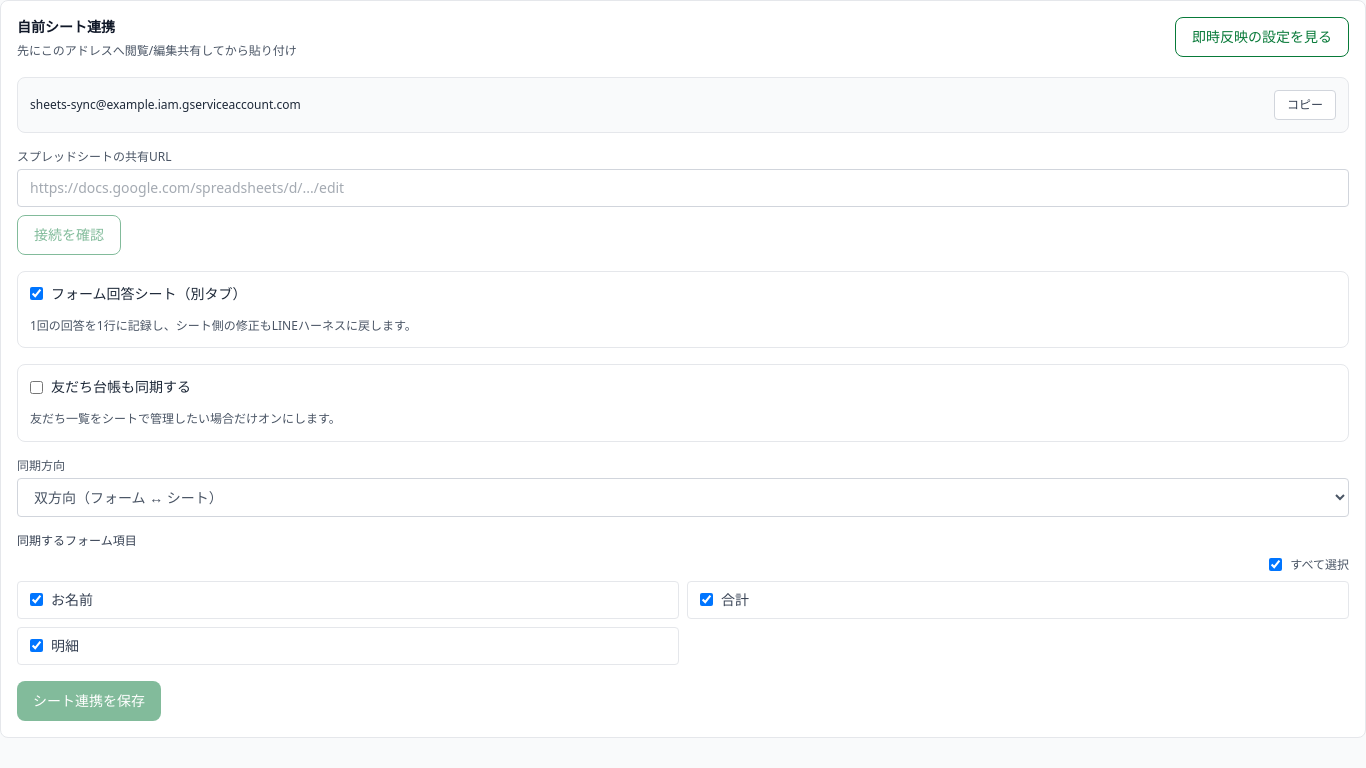
Test: InternalSheetsSetupPanel › turns a permission failure into daily Japanese without exposing the raw error
Type "https://docs.google.com/spreadsheets/d/spreadsheet_1234567890/edit" into the field labelled "スプレッドシートの共有URL". click: (683, 188)
box: [17, 168, 1349, 206]
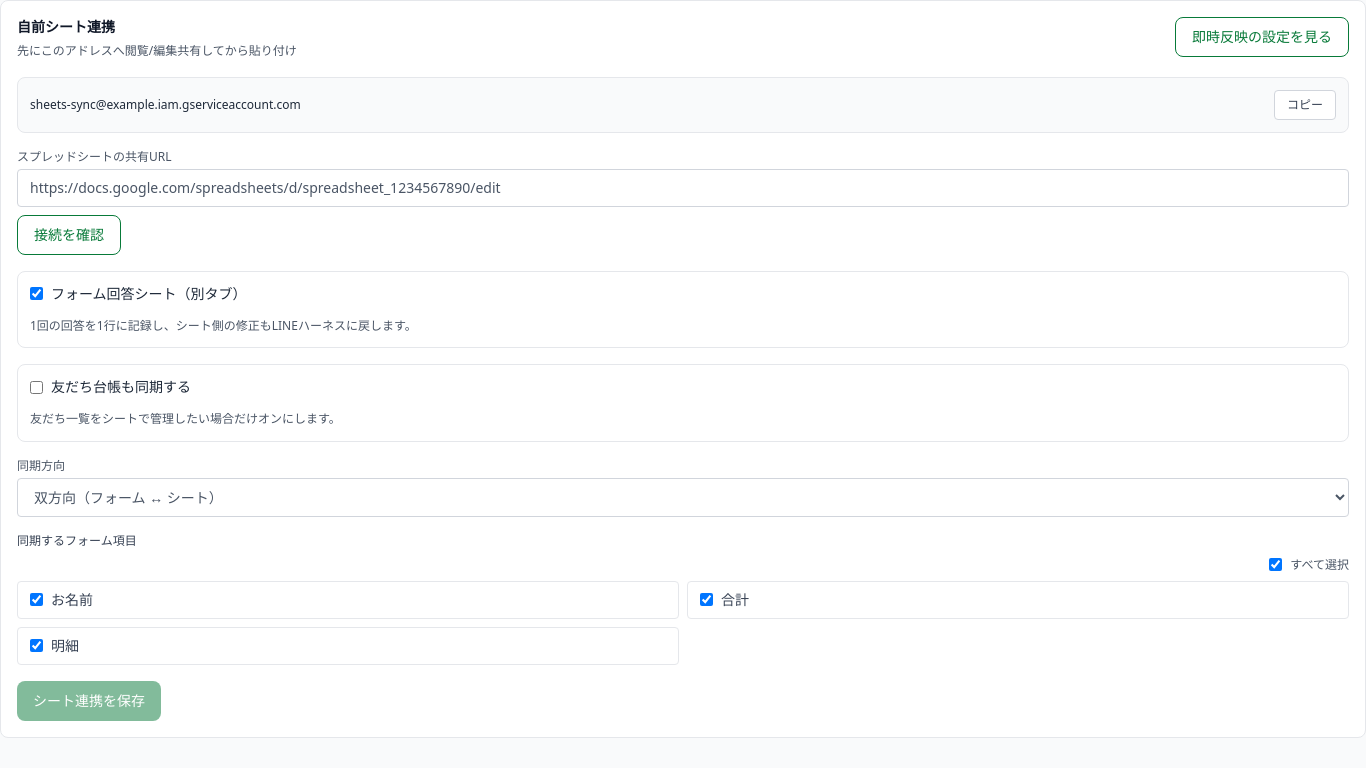
Click the button "接続を確認". click: (69, 234)
box: [17, 214, 121, 254]
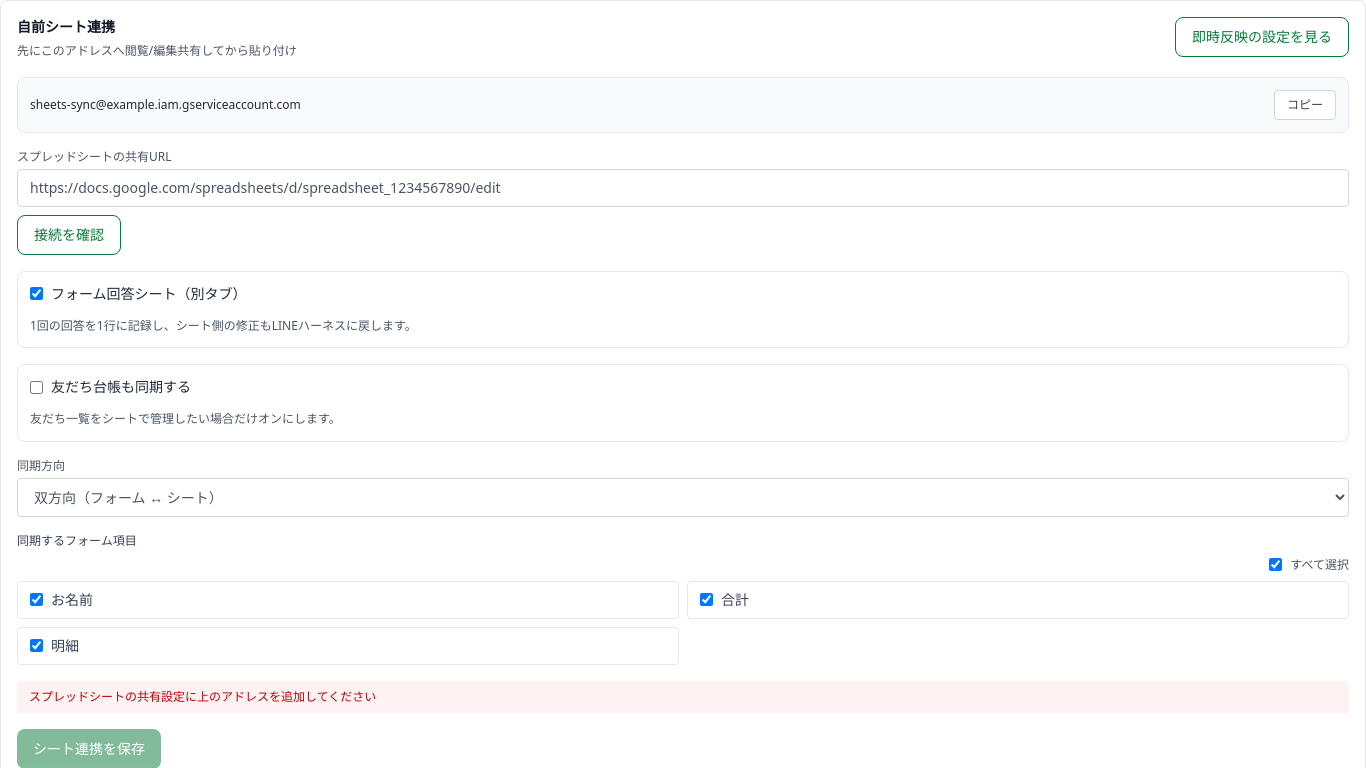
Now the message reads "スプレッドシートの共有設定に上のアドレスを追加してください", box [29, 688, 376, 704]
